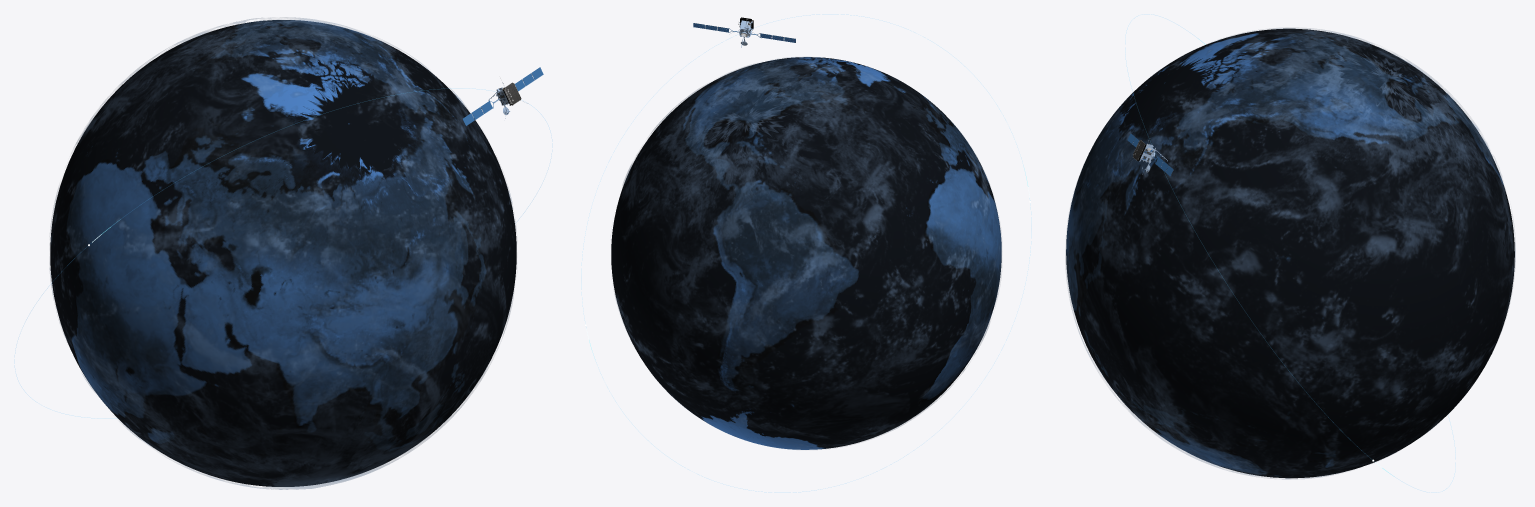
File: earth-satellite-blue.glb
3 views of the same model, side by side, from view 1: azimuth 30°, elevation 25°; view 2: azimuth 150°, elevation 25°; view 3: azimuth 270°, elevation 25° (orthographic). The views are drawn at different scales.
Parts seen in each view (by area): view 1: Earth_Surface, Earth_Clouds; view 2: Earth_Surface, Earth_Clouds; view 3: Earth_Surface, Earth_Clouds.
Boxes of the visible parts, box(x1,y1,x2,y2) form: Earth_Surface: box(50, 20, 516, 486); Earth_Clouds: box(49, 17, 516, 489); Earth_Surface: box(611, 57, 1001, 449); Earth_Clouds: box(614, 57, 1001, 448); Earth_Surface: box(1066, 28, 1514, 478); Earth_Clouds: box(1065, 28, 1515, 479).
Bounding box in the file's own units: 2.5 × 2.04 × 2.04.
24 materials, 6 textured.
